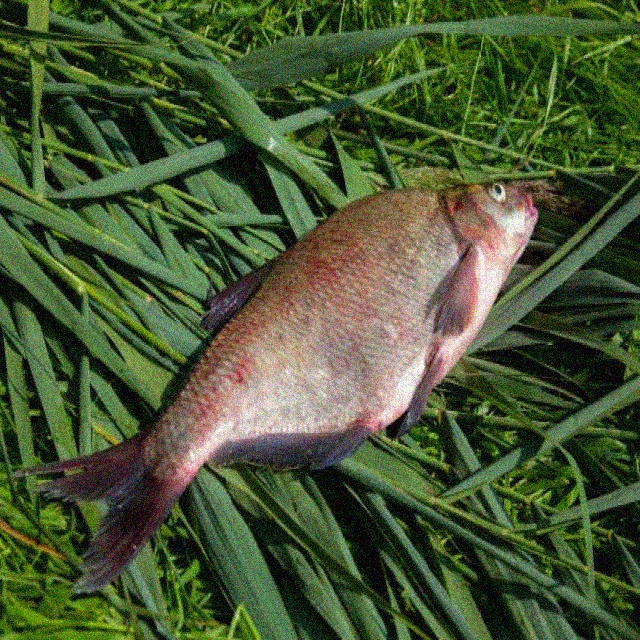EUS Disease: (54, 170, 550, 600)
